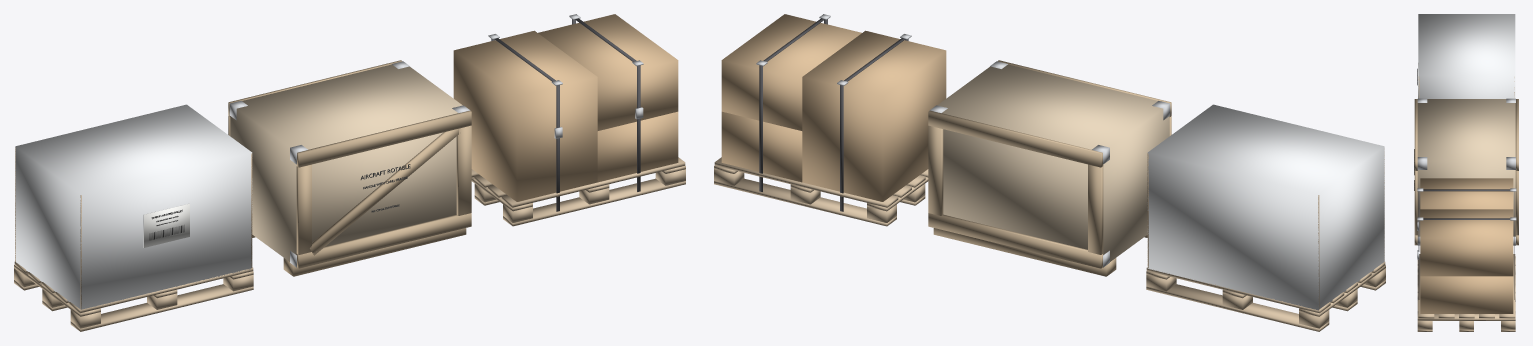
The model's file is CargoPalletSet.fbx.
3 renders of one model, left to right at view 1: azimuth 30°, elevation 25°; view 2: azimuth 150°, elevation 25°; view 3: azimuth 270°, elevation 25°, orthographic. The views are drawn at different scales.
Visible parts, largest first — view 1: Pallet_Variant1_ShrinkWrapped, Pallet_Variant2_FlightCrate, Pallet_Variant3_StrappedCartons; view 2: Pallet_Variant1_ShrinkWrapped, Pallet_Variant2_FlightCrate, Pallet_Variant3_StrappedCartons; view 3: Pallet_Variant3_StrappedCartons, Pallet_Variant2_FlightCrate, Pallet_Variant1_ShrinkWrapped.
Part boxes in pixels (x1,y1,x2,y2): Pallet_Variant1_ShrinkWrapped: (14, 104, 253, 331); Pallet_Variant2_FlightCrate: (228, 60, 471, 276); Pallet_Variant3_StrappedCartons: (453, 14, 685, 226); Pallet_Variant1_ShrinkWrapped: (1146, 104, 1385, 331); Pallet_Variant2_FlightCrate: (928, 60, 1171, 276); Pallet_Variant3_StrappedCartons: (714, 14, 946, 226); Pallet_Variant3_StrappedCartons: (1417, 178, 1516, 331); Pallet_Variant2_FlightCrate: (1414, 98, 1518, 245); Pallet_Variant1_ShrinkWrapped: (1417, 14, 1515, 98).
Size of the model in its own units: 420 by 90.9 by 85.5.
